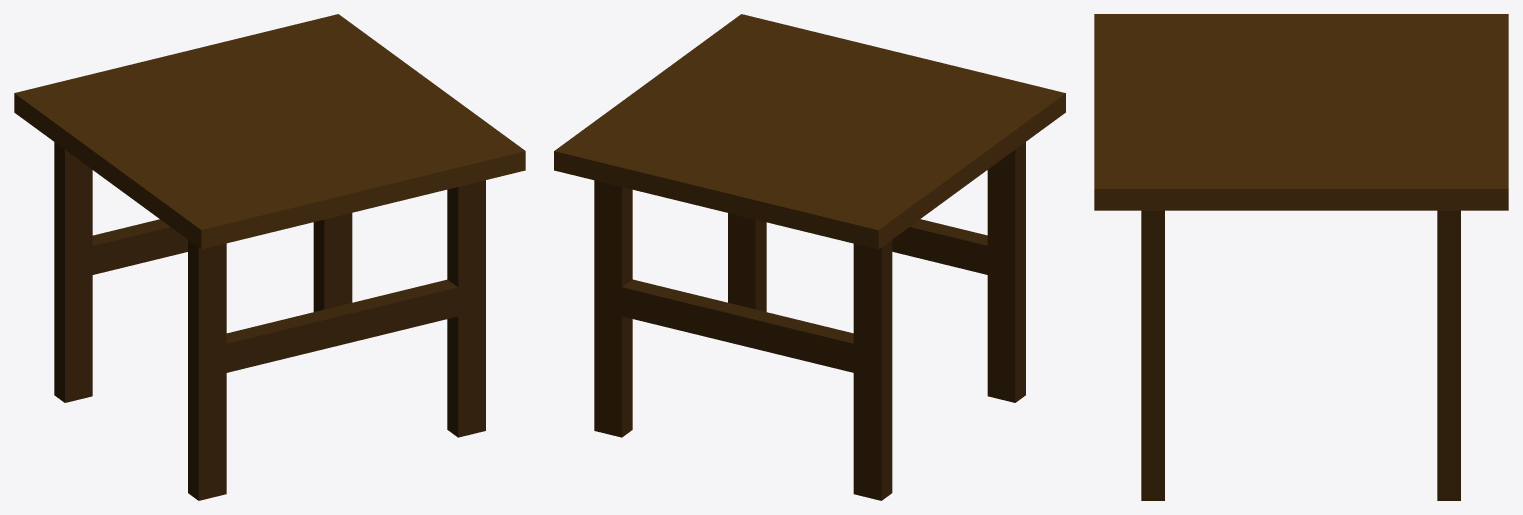
Rendered from TableSmall.fbx.
The picture shows the model from 3 angles, left to right: view 1: azimuth 30°, elevation 25°; view 2: azimuth 150°, elevation 25°; view 3: azimuth 270°, elevation 25°; orthographic projection. The views are drawn at different scales.
Parts seen in each view (by area): view 1: Table:Top1, Table:Leg14, Table:Leg13, Table:Leg12, Table:Support3, Table:Leg11, Table:Support4; view 2: Table:Top1, Table:Leg13, Table:Leg14, Table:Leg11, Table:Support4, Table:Leg12, Table:Support3; view 3: Table:Top1, Table:Leg11, Table:Leg12.
Part boxes in pixels (x1=…): Table:Top1: x1=14, y1=14, x2=525, y2=249; Table:Leg14: x1=188, y1=240, x2=226, y2=500; Table:Leg13: x1=54, y1=142, x2=92, y2=402; Table:Leg12: x1=447, y1=180, x2=485, y2=437; Table:Support3: x1=226, y1=279, x2=458, y2=372; Table:Leg11: x1=313, y1=213, x2=352, y2=311; Table:Support4: x1=92, y1=219, x2=187, y2=274; Table:Top1: x1=554, y1=14, x2=1065, y2=249; Table:Leg13: x1=853, y1=240, x2=892, y2=500; Table:Leg14: x1=987, y1=142, x2=1025, y2=402; Table:Leg11: x1=594, y1=180, x2=632, y2=437; Table:Support4: x1=622, y1=279, x2=853, y2=372; Table:Leg12: x1=728, y1=213, x2=766, y2=311; Table:Support3: x1=892, y1=219, x2=987, y2=274; Table:Top1: x1=1094, y1=14, x2=1508, y2=210; Table:Leg11: x1=1437, y1=210, x2=1460, y2=500; Table:Leg12: x1=1141, y1=210, x2=1164, y2=500.
Bounding box in the file's own units: 0.875 × 0.75 × 0.875.
